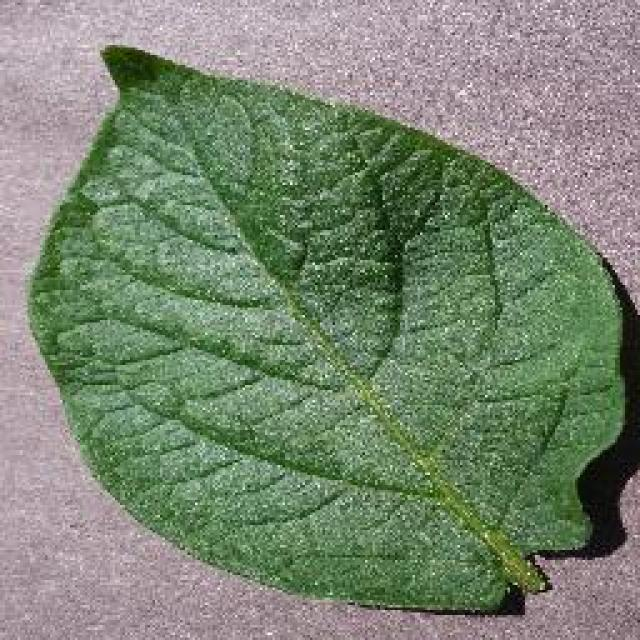Potato: (22, 40, 630, 615)
